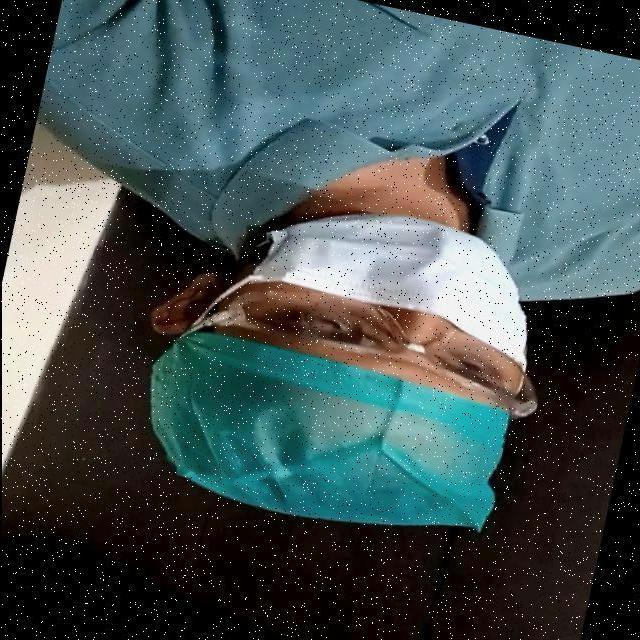gloves: (160, 359, 496, 521)
mask: (250, 208, 526, 330)
